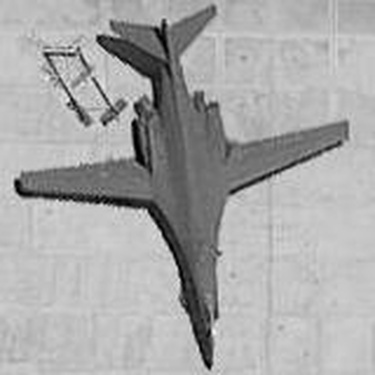airplane: (4, 1, 359, 366)
